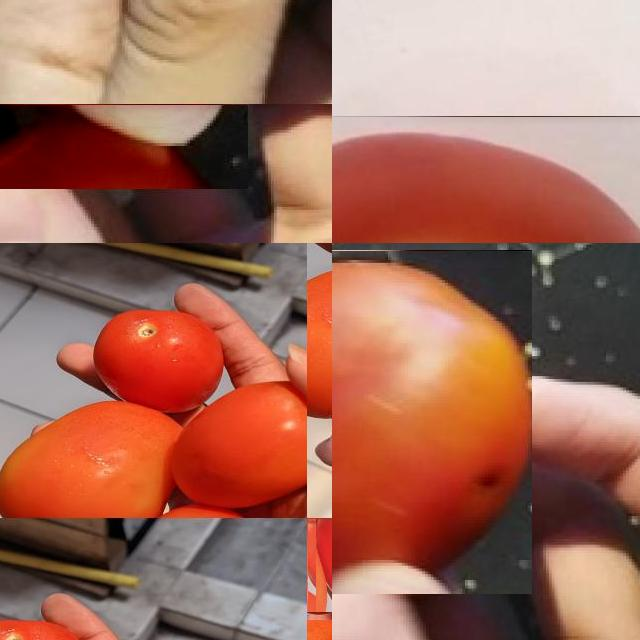0: (332, 116, 640, 243)
Fresh Tomato: (307, 518, 332, 612)
Rotten Tomato: (332, 250, 531, 594), (0, 104, 248, 189)
